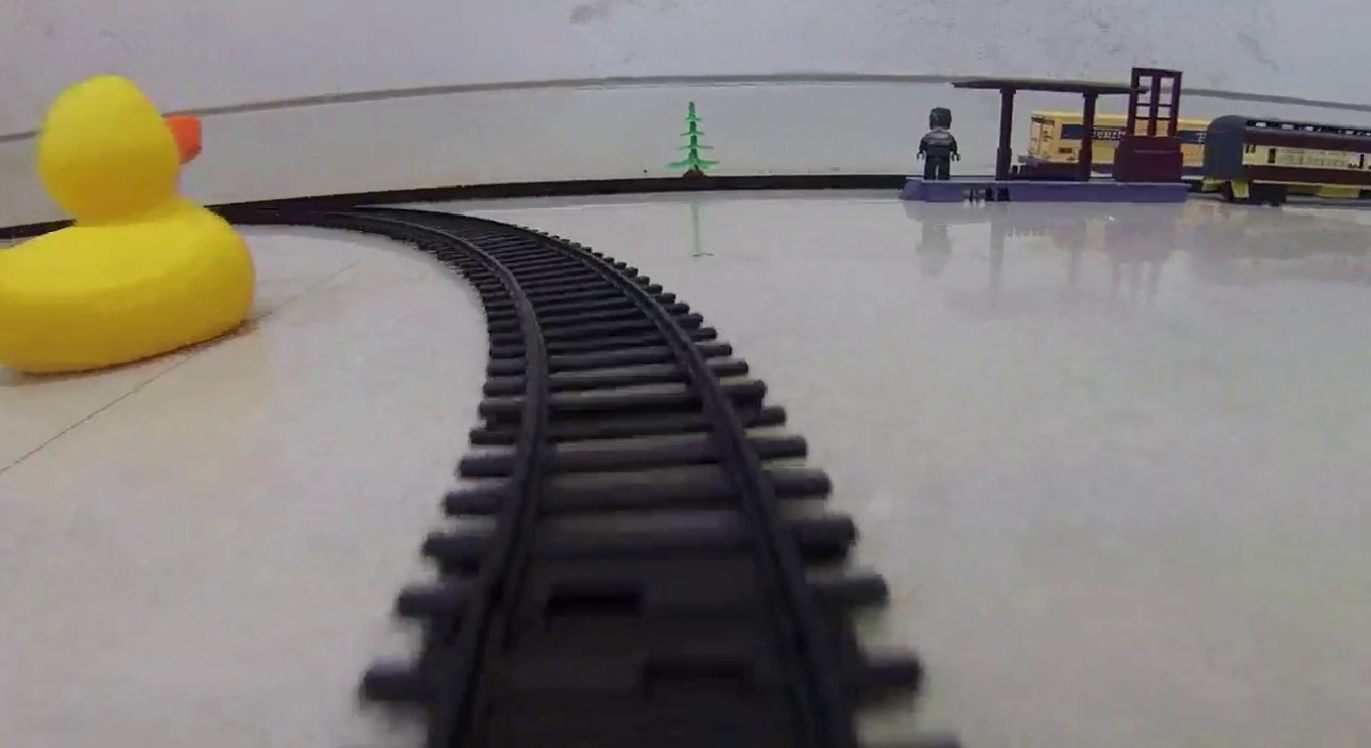people: (916, 107, 963, 180)
tree: (666, 99, 721, 180)
